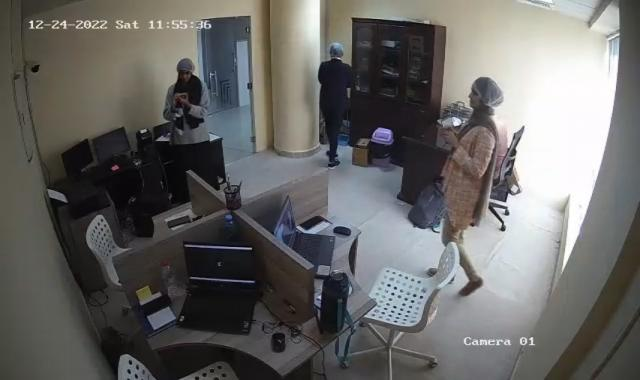hairnet: (466, 76, 504, 112), (176, 58, 196, 82), (329, 44, 344, 64)
